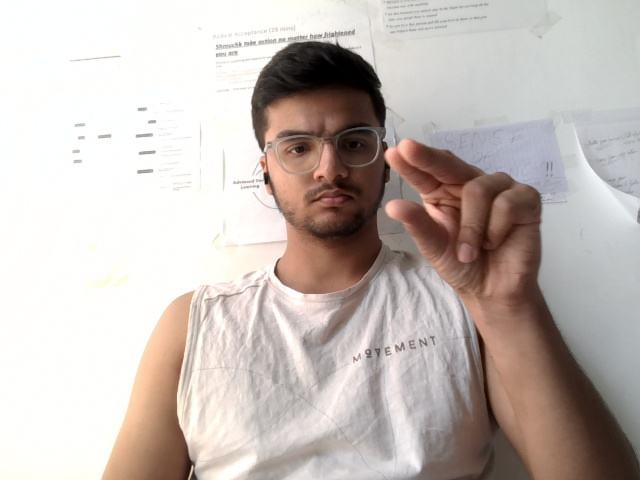no: (376, 128, 575, 313)
